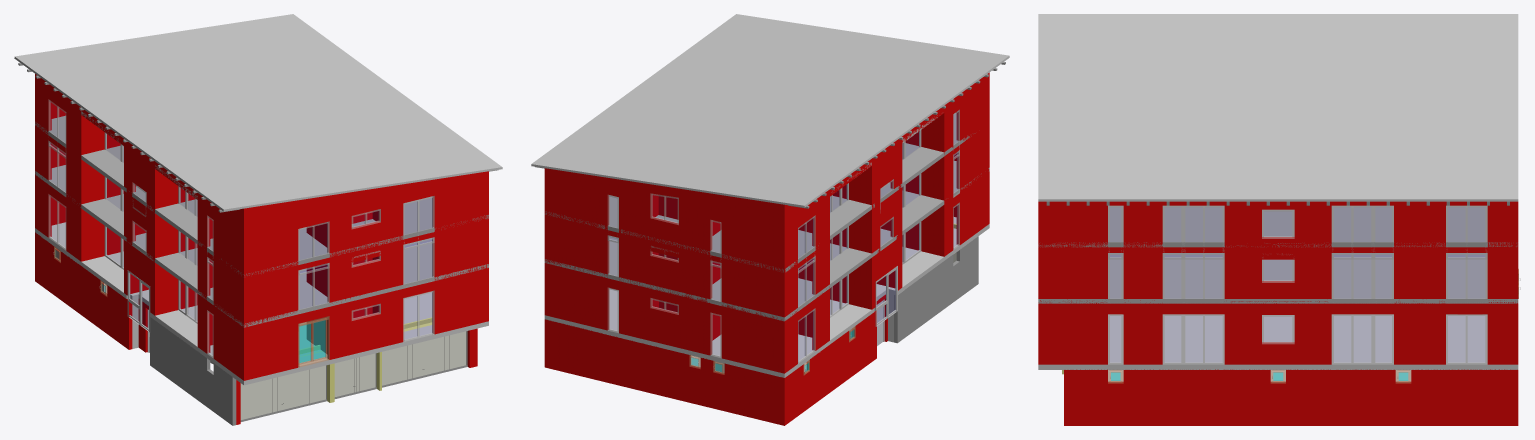
3 views of the same model, side by side, from view 1: azimuth 30°, elevation 25°; view 2: azimuth 150°, elevation 25°; view 3: azimuth 270°, elevation 25° (orthographic). The views are drawn at different scales.
Parts seen in each view (by area): view 1: 2LyOnm3HfDoQyPBX$sZ__E, 046XTSGrf6dxo2lkn16MZf, 1uAKOeCRHEieYOZq68LNu9, 0xAVzJEbj9kxb4d$Dz41cz, 3qlbUuWS9A88oE2tMvG66y, 1HfDedA1j3lPv$vXYu6HeH, 11W_cg5ULCWweIIzjuiFFZ, 2yYVPeHk924hL_c8ydkqpH, 2A_KAqcqTEiPqZizQTx9OM, 2lZHj6JpP5cBLyEZKnkWjZ, 0RHVPOxrnDvxWVNHzveiky, 3JCb305qTBvA8daI0ZWHNo (+24 smaller); view 2: 2LyOnm3HfDoQyPBX$sZ__E, 3rPusAl2nEB9pfvUhJpX0K, 0H_FTp1DbDPeIFCLy$Y_8F, 1NA0QMNKz2VQ5s71jak25w, 1w8_CCrtPEfOBGI_Kwyr7e, 1HfDedA1j3lPv$vXYu6HeH, 3qlbUuWS9A88oE2tMvG66y, 11W_cg5ULCWweIIzjuiFFZ, 2yYVPeHk924hL_c8ydkqpH, 2A_KAqcqTEiPqZizQTx9OM, 3JCb305qTBvA8daI0ZWHNo, 1HB_XQ3J92exzCXe1ctMzA (+17 smaller); view 3: 2LyOnm3HfDoQyPBX$sZ__E, 25S0QWC9bABB8JMFCJ1wnG, 3u0z6l7sX588lZA7MWaLdb, 01mtkDlAX6HALMLHtKTh3S, 0fecc4Yhz8mwl2kyChH13y, 1HfDedA1j3lPv$vXYu6HeH, 3qlbUuWS9A88oE2tMvG66y, 2A_KAqcqTEiPqZizQTx9OM, 0VKSR5UqL8cx5tq76rlPKp, 3lRlVoIK1FRxcqh7Mawttg, 2yAyAGWwD0dQ9IF_BCBPC6, 1zvcbuoJ9C59Dzmi3Ti8gC (+3 smaller).
Part boxes in pixels (x1=…): 2LyOnm3HfDoQyPBX$sZ__E: x1=14, y1=14, x2=502, y2=211; 046XTSGrf6dxo2lkn16MZf: x1=242, y1=172, x2=485, y2=289; 1uAKOeCRHEieYOZq68LNu9: x1=242, y1=269, x2=485, y2=380; 0xAVzJEbj9kxb4d$Dz41cz: x1=242, y1=220, x2=485, y2=327; 3qlbUuWS9A88oE2tMvG66y: x1=35, y1=165, x2=488, y2=327; 1HfDedA1j3lPv$vXYu6HeH: x1=35, y1=222, x2=488, y2=385; 11W_cg5ULCWweIIzjuiFFZ: x1=35, y1=232, x2=132, y2=349; 2yYVPeHk924hL_c8ydkqpH: x1=150, y1=317, x2=236, y2=425; 2A_KAqcqTEiPqZizQTx9OM: x1=35, y1=115, x2=488, y2=275; 2lZHj6JpP5cBLyEZKnkWjZ: x1=240, y1=365, x2=327, y2=421; 0RHVPOxrnDvxWVNHzveiky: x1=382, y1=331, x2=467, y2=387; 3JCb305qTBvA8daI0ZWHNo: x1=199, y1=194, x2=241, y2=287; 2LyOnm3HfDoQyPBX$sZ__E: x1=531, y1=14, x2=1009, y2=207; 3rPusAl2nEB9pfvUhJpX0K: x1=544, y1=168, x2=786, y2=283; 0H_FTp1DbDPeIFCLy$Y_8F: x1=544, y1=263, x2=786, y2=373; 1NA0QMNKz2VQ5s71jak25w: x1=548, y1=320, x2=781, y2=424; 1w8_CCrtPEfOBGI_Kwyr7e: x1=544, y1=215, x2=786, y2=320; 1HfDedA1j3lPv$vXYu6HeH: x1=544, y1=217, x2=989, y2=377; 3qlbUuWS9A88oE2tMvG66y: x1=544, y1=160, x2=989, y2=321; 11W_cg5ULCWweIIzjuiFFZ: x1=781, y1=310, x2=876, y2=425; 2yYVPeHk924hL_c8ydkqpH: x1=894, y1=236, x2=978, y2=343; 2A_KAqcqTEiPqZizQTx9OM: x1=545, y1=113, x2=975, y2=272; 3JCb305qTBvA8daI0ZWHNo: x1=946, y1=77, x2=987, y2=163; 1HB_XQ3J92exzCXe1ctMzA: x1=945, y1=173, x2=987, y2=255; 2LyOnm3HfDoQyPBX$sZ__E: x1=1038, y1=14, x2=1518, y2=201; 25S0QWC9bABB8JMFCJ1wnG: x1=1068, y1=369, x2=1518, y2=425; 3u0z6l7sX588lZA7MWaLdb: x1=1038, y1=303, x2=1513, y2=364; 01mtkDlAX6HALMLHtKTh3S: x1=1038, y1=201, x2=1513, y2=259; 0fecc4Yhz8mwl2kyChH13y: x1=1038, y1=247, x2=1513, y2=303; 1HfDedA1j3lPv$vXYu6HeH: x1=1038, y1=314, x2=1518, y2=369; 3qlbUuWS9A88oE2tMvG66y: x1=1038, y1=253, x2=1518, y2=303; 2A_KAqcqTEiPqZizQTx9OM: x1=1038, y1=206, x2=1517, y2=247; 0VKSR5UqL8cx5tq76rlPKp: x1=1331, y1=314, x2=1373, y2=364; 3lRlVoIK1FRxcqh7Mawttg: x1=1331, y1=205, x2=1373, y2=259; 2yAyAGWwD0dQ9IF_BCBPC6: x1=1183, y1=205, x2=1224, y2=259; 1zvcbuoJ9C59Dzmi3Ti8gC: x1=1446, y1=314, x2=1487, y2=364.
Bounding box in the file's own units: 14.24 × 11.2 × 18.59.
